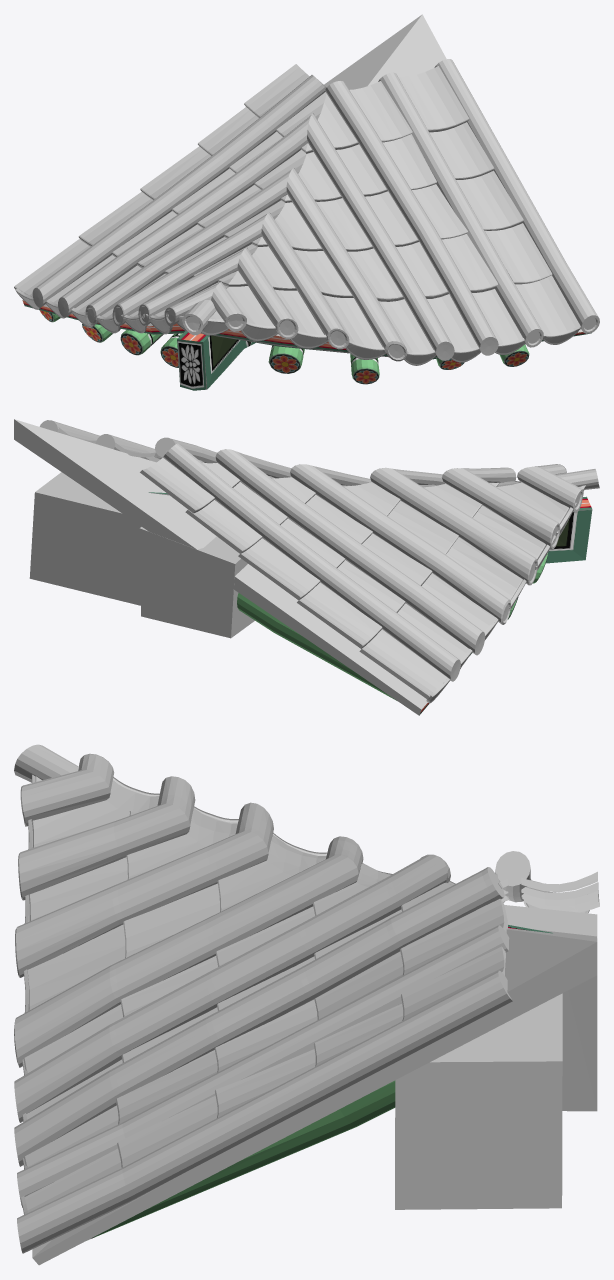
File: SM_R_RoofCorner_15.fbx
3 views of the same model, one above another, from view 1: azimuth 30°, elevation 25°; view 2: azimuth 150°, elevation 25°; view 3: azimuth 270°, elevation 25° (orthographic). The views are drawn at different scales.
Visible parts, largest first — view 1: SM_R_RoofCorner_15_LOD0; view 2: SM_R_RoofCorner_15_LOD0; view 3: SM_R_RoofCorner_15_LOD0.
Part boxes in pixels (x1=…): SM_R_RoofCorner_15_LOD0: x1=14, y1=14, x2=599, y2=390; SM_R_RoofCorner_15_LOD0: x1=14, y1=419, x2=599, y2=715; SM_R_RoofCorner_15_LOD0: x1=14, y1=744, x2=599, y2=1265.
Bounding box in the file's own units: 340 × 253 × 172.
